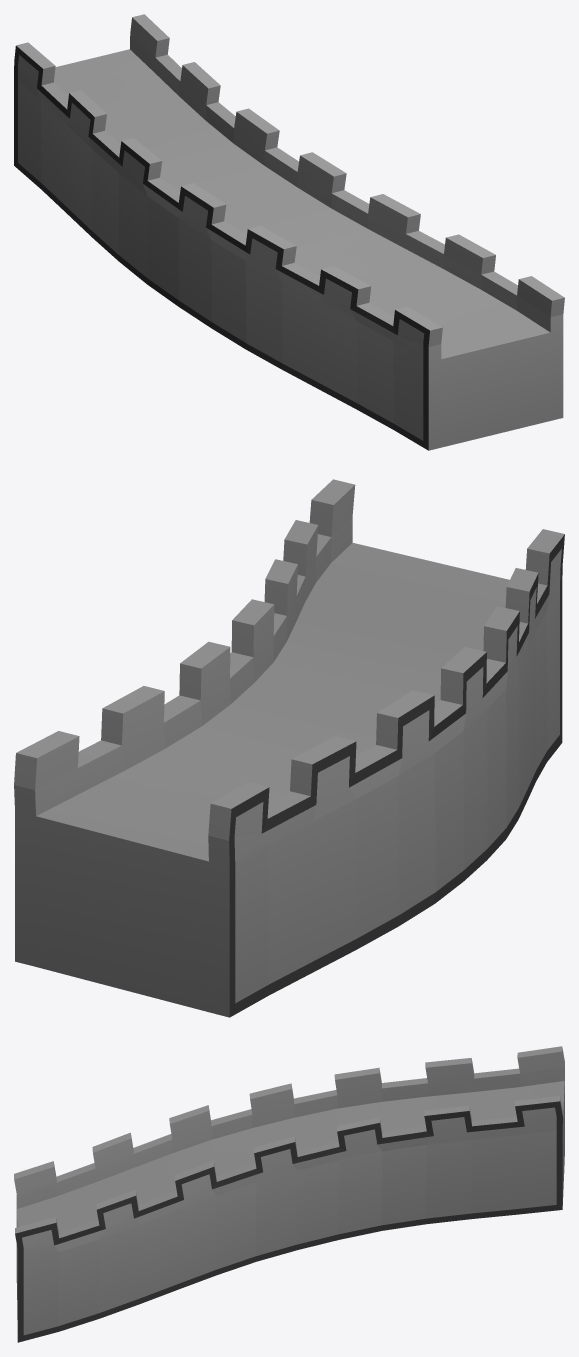
The model's file is stair 1.fbx.
3 renders of one model, top to bottom at view 1: azimuth 30°, elevation 25°; view 2: azimuth 150°, elevation 25°; view 3: azimuth 270°, elevation 25°, orthographic. The views are drawn at different scales.
Parts seen in each view (by area): view 1: Cube.347; view 2: Cube.347; view 3: Cube.347.
Part boxes in pixels (bbox=[...]): Cube.347: bbox=[14, 14, 564, 450]; Cube.347: bbox=[14, 479, 564, 1017]; Cube.347: bbox=[14, 1046, 564, 1342].
Size of the model in its own units: 12.98 by 10.69 by 28.1.
1 material, 1 textured.
